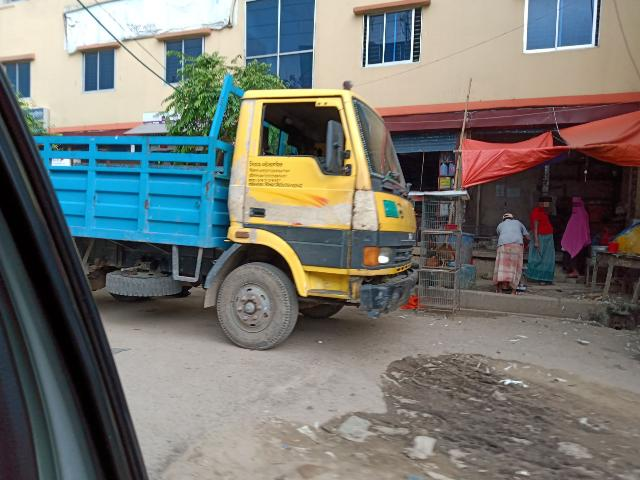truck: (21, 84, 421, 361)
